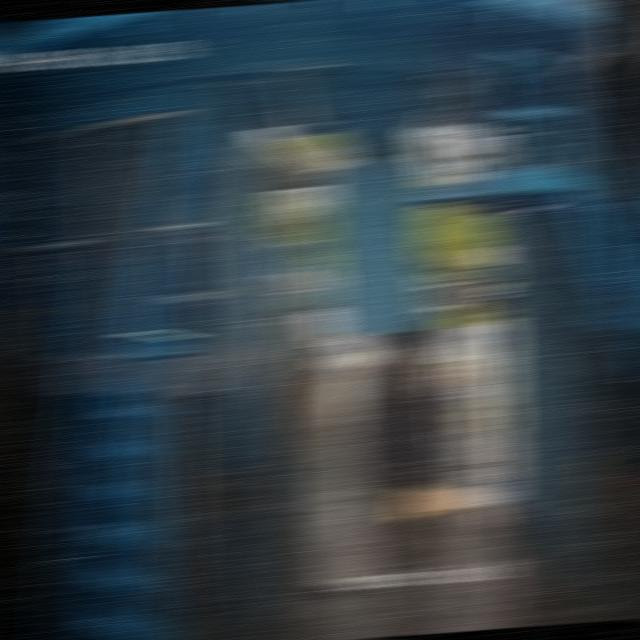cement_mixer_truck: (346, 261, 457, 458)
